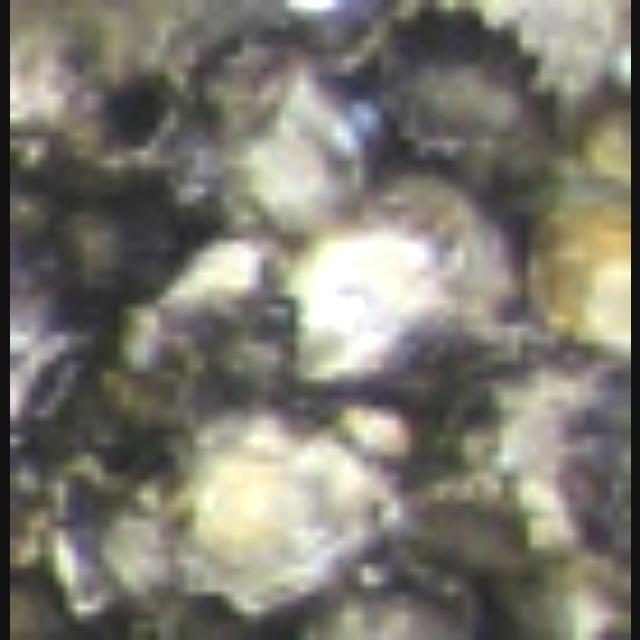Oyster-Closed: (399, 340, 621, 579), (172, 410, 401, 620), (292, 183, 512, 373), (405, 0, 621, 136), (228, 85, 376, 239), (395, 54, 539, 169), (525, 181, 621, 352), (160, 241, 300, 338), (310, 563, 467, 631), (278, 0, 424, 68)
Oyster-Open: (9, 334, 84, 445)
